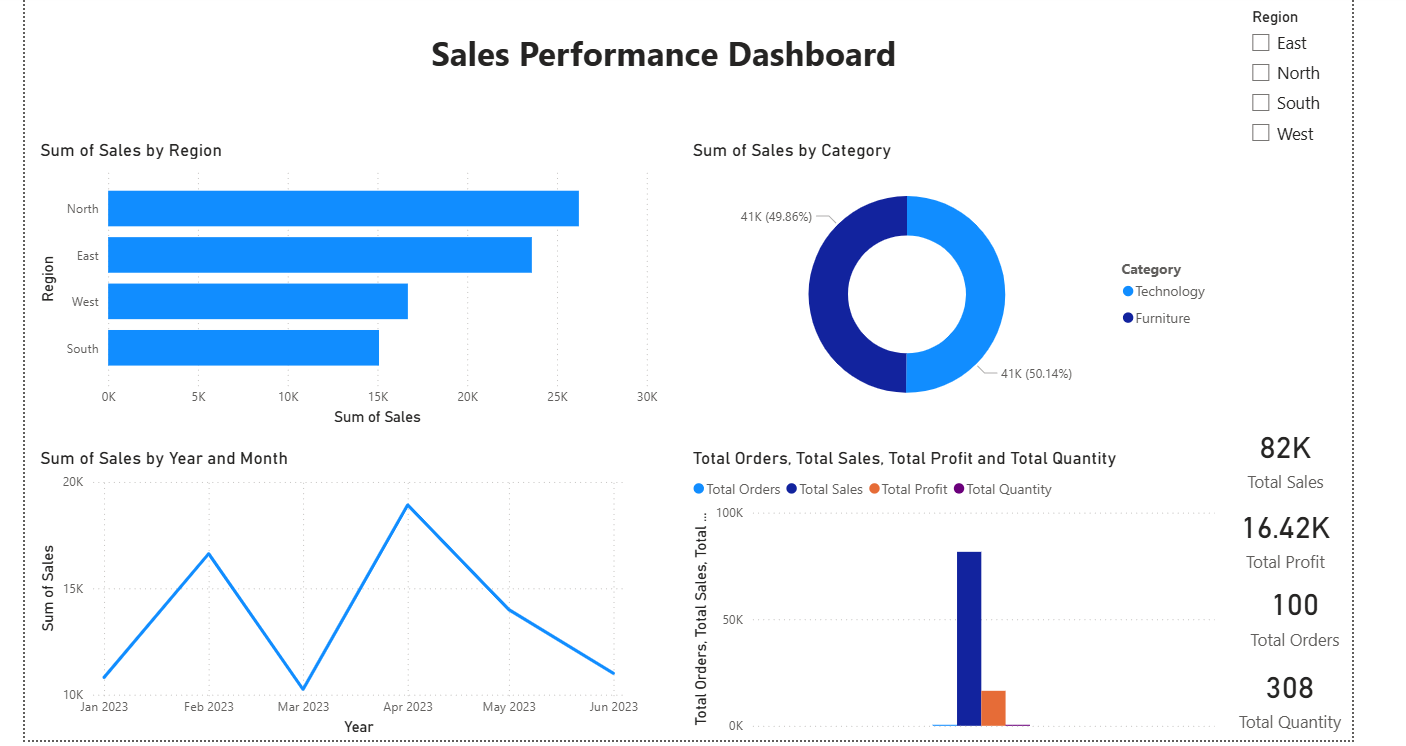

The page's visual inventory and layout, read from the dashboard file:
{"tool":"powerbi","page":{"name":"Page 1","canvas":[1280,720],"ordinal":0},"visuals":[{"type":"barChart","fields":{"Y":["Sum(sales_data.Sales)"],"Category":["sales_data.Region"]},"box":[9.7,139.9,605.6,281.1],"z":0},{"type":"lineChart","fields":{"Y":["Sum(sales_data.Sales)"],"Category":["sales_data.Order_Date.Variation.Date Hierarchy.Year","sales_data.Order_Date.Variation.Date Hierarchy.Month"]},"box":[9.7,437.9,587.5,282.3],"z":1000},{"type":"donutChart","fields":{"Category":["sales_data.Category"],"Y":["Sum(sales_data.Sales)"]},"box":[639.4,139.9,513.9,281.1],"z":2000},{"type":"clusteredColumnChart","fields":{"Y":["sales_data.Total Orders","sales_data.Total Sales","sales_data.Total Profit","sales_data.Total Quantity"]},"box":[639.4,437.9,513.9,282.3],"z":3000},{"type":"slicer","fields":{"Values":["sales_data.Region"]},"box":[1171.5,8.4,108.6,171.3],"z":4000},{"type":"textbox","box":[328.2,30.2,576.7,78.4],"z":6000},{"type":"card","fields":{"Values":["sales_data.Total Sales"]},"box":[1153.4,406.6,126.7,79.6],"z":6001},{"type":"card","fields":{"Values":["sales_data.Total Quantity"]},"box":[1161.8,635.8,118.2,84.5],"z":6002},{"type":"card","fields":{"Values":["sales_data.Total Profit"]},"box":[1153.4,486.2,126.7,74.8],"z":6003},{"type":"card","fields":{"Values":["sales_data.Total Orders"]},"box":[1171.5,561,108.6,74.8],"z":6004}]}

Visuals, with their boxes on the page's 1280x720 design canvas (x1, y1, x2, y2). These are canvas units, not pixel positions in the 1406x746 screenshot, which may show the page scaled, cropped or inside an application window:
barChart - Sum(sales_data.Sales) x sales_data.Region: 10/140/615/421
lineChart - Sum(sales_data.Sales) x sales_data.Order_Date.Variation.Date Hierarchy.Year: 10/438/597/720
donutChart - sales_data.Category x Sum(sales_data.Sales): 639/140/1153/421
clusteredColumnChart - sales_data.Total Orders x sales_data.Total Sales: 639/438/1153/720
slicer - sales_data.Region: 1172/8/1280/180
textbox: 328/30/905/109
card - sales_data.Total Sales: 1153/407/1280/486
card - sales_data.Total Quantity: 1162/636/1280/720
card - sales_data.Total Profit: 1153/486/1280/561
card - sales_data.Total Orders: 1172/561/1280/636
